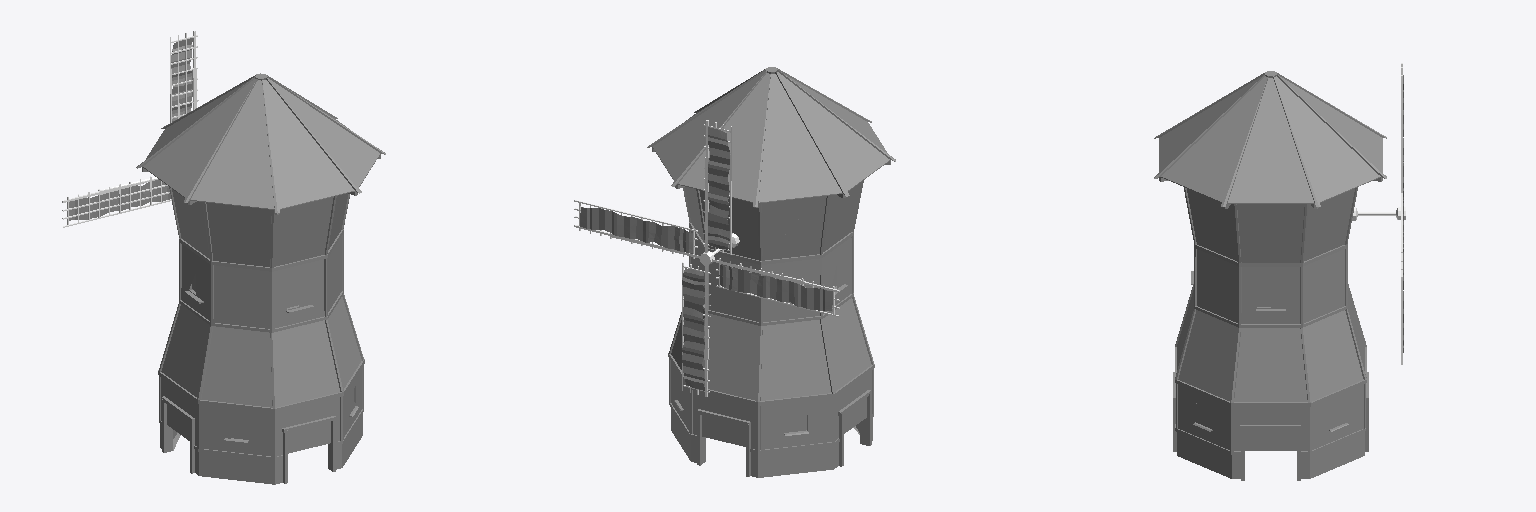
Rendered from Windmill1.obj.
3 renders of one model, left to right at view 1: azimuth 30°, elevation 25°; view 2: azimuth 150°, elevation 25°; view 3: azimuth 270°, elevation 25°, orthographic.
Parts seen in each view (by area): view 1: moulin_Cylindre, windmill_blades_windmill_windmill_Material__28, frames_wooden_beam_doors_Cube.004; view 2: moulin_Cylindre, windmill_blades_windmill_windmill_Material__28, frames_wooden_beam_doors_Cube.004; view 3: moulin_Cylindre, windmill_blades_windmill_windmill_Material__28, frames_wooden_beam_doors_Cube.004.
Part boxes in pixels (left/top/right/bottom): moulin_Cylindre: left=136, top=73, right=385, bottom=484; windmill_blades_windmill_windmill_Material__28: left=62, top=31, right=198, bottom=227; frames_wooden_beam_doors_Cube.004: left=161, top=396, right=336, bottom=483; moulin_Cylindre: left=647, top=67, right=895, bottom=477; windmill_blades_windmill_windmill_Material__28: left=574, top=120, right=839, bottom=396; frames_wooden_beam_doors_Cube.004: left=697, top=390, right=871, bottom=476; moulin_Cylindre: left=1154, top=71, right=1386, bottom=478; windmill_blades_windmill_windmill_Material__28: left=1352, top=63, right=1405, bottom=364; frames_wooden_beam_doors_Cube.004: left=1173, top=372, right=1368, bottom=480.
Bounding box in the file's own units: 16.25 × 21.47 × 13.37.